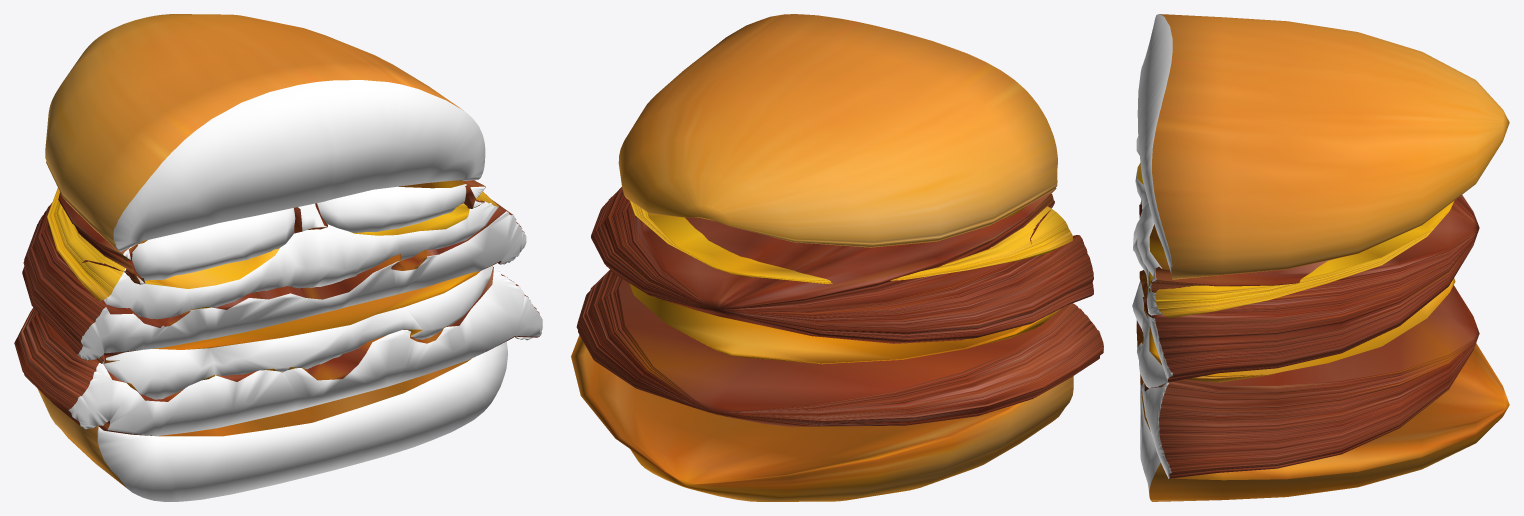
File: classic-smash-burger-doppio.glb
The picture shows the model from 3 angles, left to right: view 1: azimuth 30°, elevation 25°; view 2: azimuth 150°, elevation 25°; view 3: azimuth 270°, elevation 25°; orthographic projection.
Visible parts, largest first — view 1: ingredient_00_top_bun_solid, ingredient_06_bottom_bun_solid, ingredient_05_lower_smash_solid, ingredient_03_top_smash_solid, ingredient_02_top_cheddar_solid, ingredient_04_lower_cheddar_solid, ingredient_01_pickles_solid; view 2: ingredient_00_top_bun_solid, ingredient_03_top_smash_solid, ingredient_05_lower_smash_solid, ingredient_06_bottom_bun_solid, ingredient_04_lower_cheddar_solid, ingredient_02_top_cheddar_solid; view 3: ingredient_00_top_bun_solid, ingredient_05_lower_smash_solid, ingredient_03_top_smash_solid, ingredient_06_bottom_bun_solid, ingredient_02_top_cheddar_solid, ingredient_04_lower_cheddar_solid, ingredient_01_pickles_solid.
Part boxes in pixels (bbox=[...]): ingredient_00_top_bun_solid: bbox=[45, 14, 485, 251]; ingredient_06_bottom_bun_solid: bbox=[37, 336, 534, 501]; ingredient_05_lower_smash_solid: bbox=[14, 267, 542, 436]; ingredient_03_top_smash_solid: bbox=[22, 180, 526, 363]; ingredient_02_top_cheddar_solid: bbox=[47, 188, 498, 319]; ingredient_04_lower_cheddar_solid: bbox=[96, 266, 493, 399]; ingredient_01_pickles_solid: bbox=[118, 180, 466, 280]; ingredient_00_top_bun_solid: bbox=[618, 14, 1057, 247]; ingredient_03_top_smash_solid: bbox=[591, 187, 1093, 343]; ingredient_05_lower_smash_solid: bbox=[576, 270, 1103, 426]; ingredient_06_bottom_bun_solid: bbox=[571, 335, 1073, 501]; ingredient_04_lower_cheddar_solid: bbox=[629, 283, 1060, 364]; ingredient_02_top_cheddar_solid: bbox=[629, 200, 1073, 283]; ingredient_00_top_bun_solid: bbox=[1137, 14, 1509, 279]; ingredient_05_lower_smash_solid: bbox=[1136, 285, 1479, 478]; ingredient_03_top_smash_solid: bbox=[1139, 195, 1479, 382]; ingredient_06_bottom_bun_solid: bbox=[1140, 343, 1509, 501]; ingredient_02_top_cheddar_solid: bbox=[1133, 163, 1454, 318]; ingredient_04_lower_cheddar_solid: bbox=[1132, 278, 1455, 388]; ingredient_01_pickles_solid: bbox=[1136, 136, 1169, 276].
Size of the model in its own units: 1.82 by 1.45 by 1.25.
